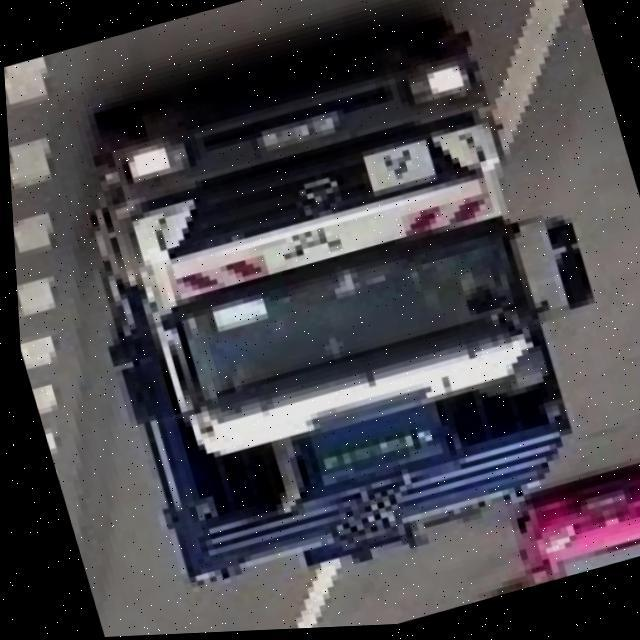truck: (29, 0, 634, 598)
